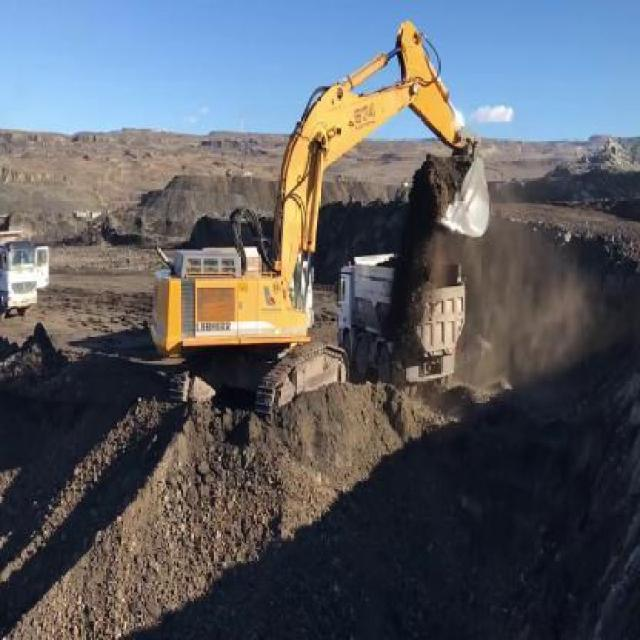dump_truck: (335, 254, 463, 391), (2, 225, 49, 318)
excavator: (142, 19, 493, 430)
